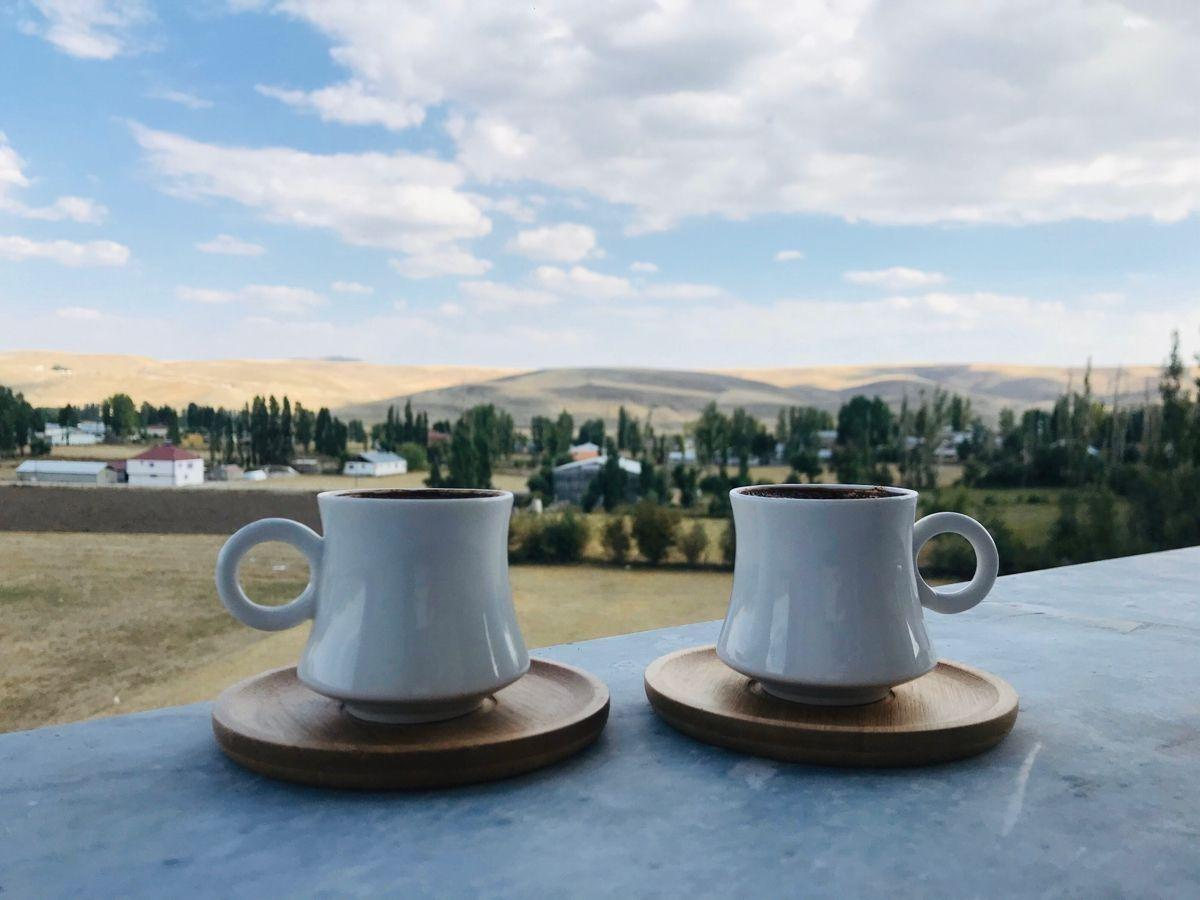cup-handle: (211, 484, 533, 722), (714, 480, 1003, 712)
